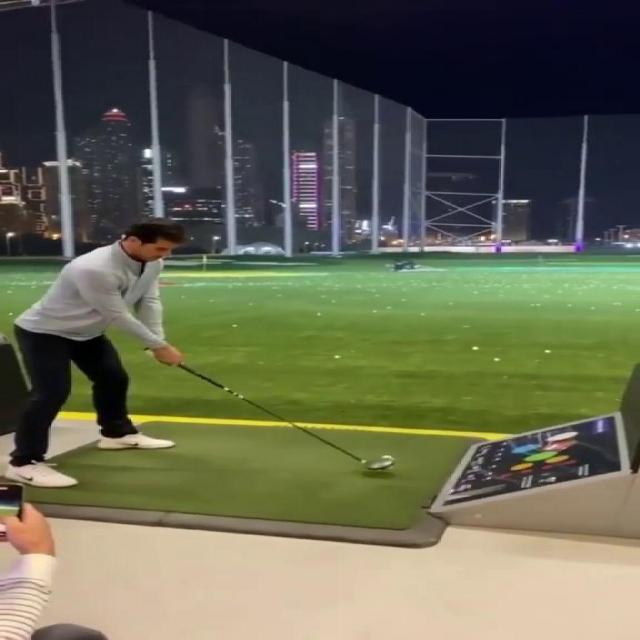golf ball: (383, 455, 394, 460)
golf club-handle: (141, 347, 396, 472)
golf club-head: (363, 458, 392, 469)
